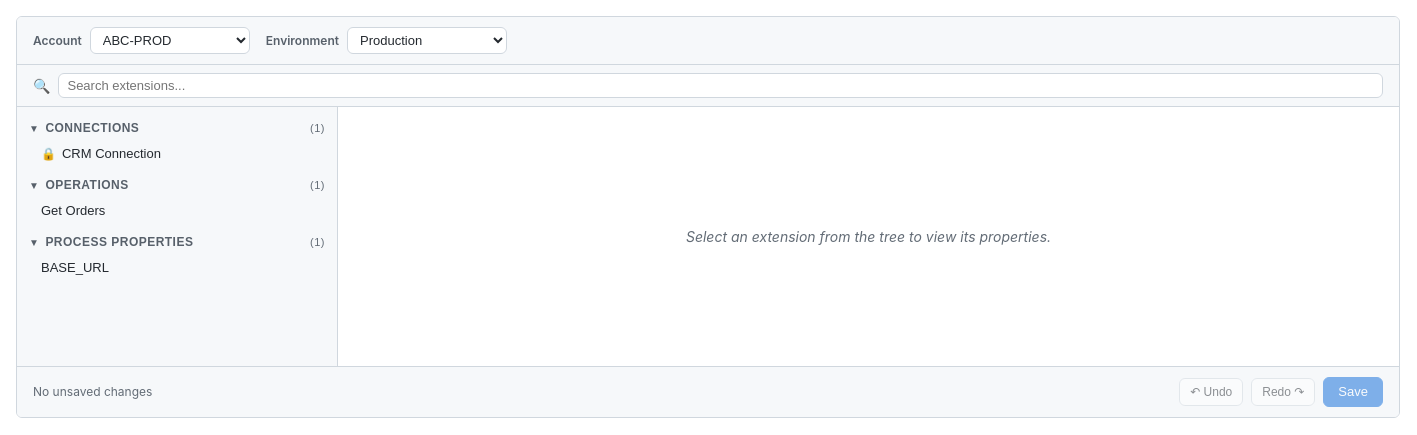
Test case: ExtensionEditor › shows unsaved changes count after edit
The width and height of the screenshot is (1417, 435).
// Select an operation (editable by contributors)
Click the button "Get Orders": {"x": 73, "y": 210} [17,198,337,223]
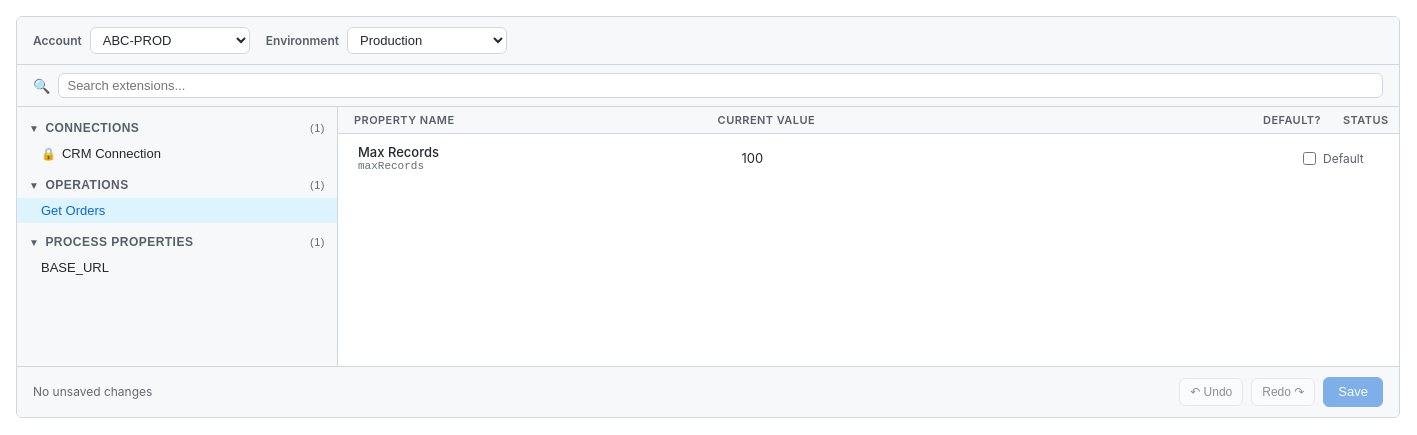
// Edit the max records field
Click the button "100": {"x": 752, "y": 158} [741,150,763,166]
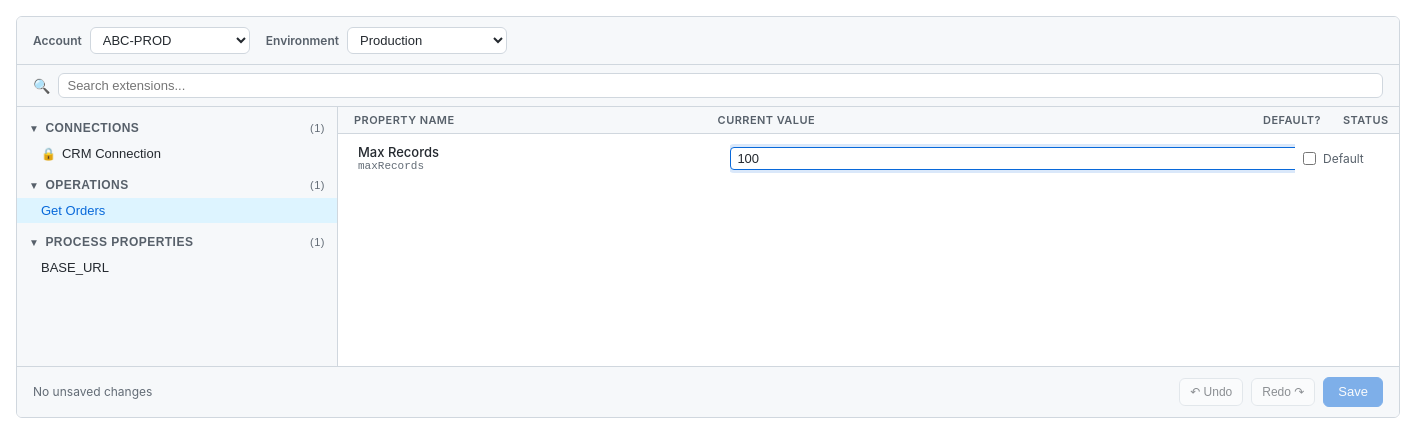
Replace the text in the field named "Edit property value" with "200": {"x": 1016, "y": 158} [730,146,1301,170]
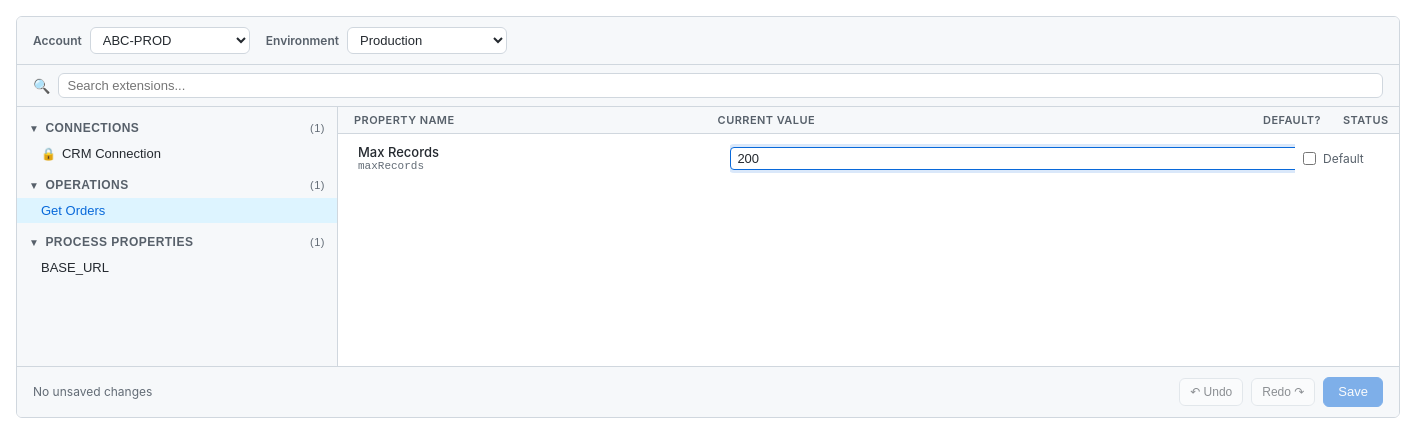
Leave the field named "Edit property value", box [730,146,1301,170]
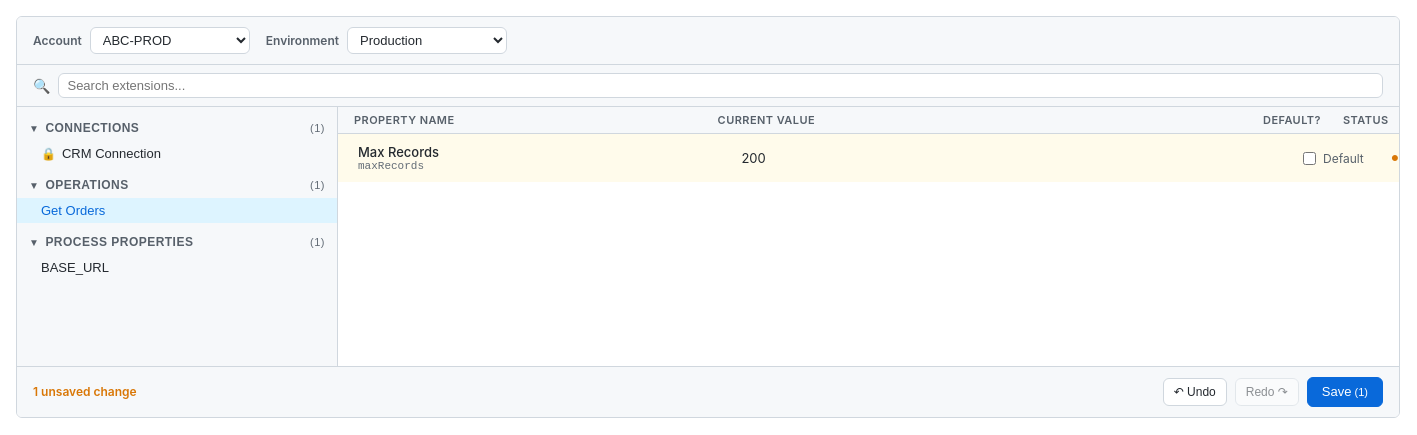
Now the text "1 unsaved change" is shown, box [33,384,137,399]
